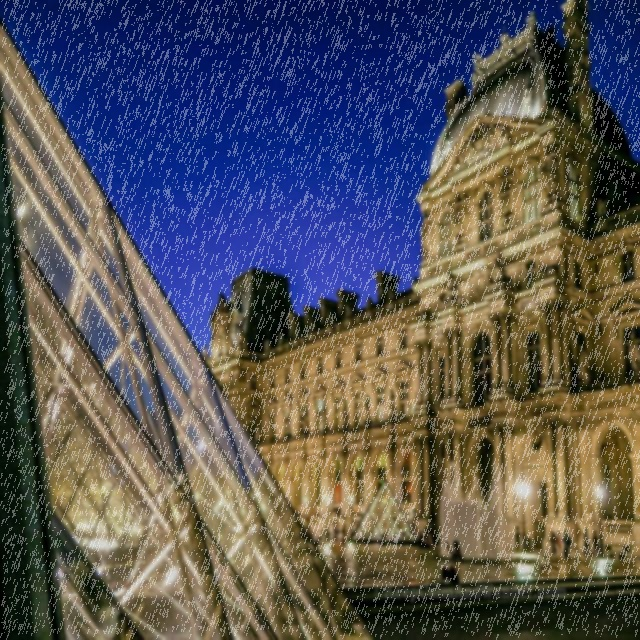pessoa: (250, 388, 404, 443), (201, 285, 237, 368), (307, 506, 362, 545), (414, 197, 440, 269), (536, 140, 560, 214), (494, 162, 518, 232), (440, 539, 466, 587), (448, 191, 468, 249), (437, 270, 465, 310), (620, 326, 640, 381), (486, 252, 510, 292), (573, 340, 592, 388), (411, 515, 434, 547), (560, 528, 572, 561), (582, 525, 592, 561), (591, 527, 601, 559), (512, 522, 520, 556), (554, 529, 562, 559), (550, 530, 558, 558), (548, 529, 554, 557)
